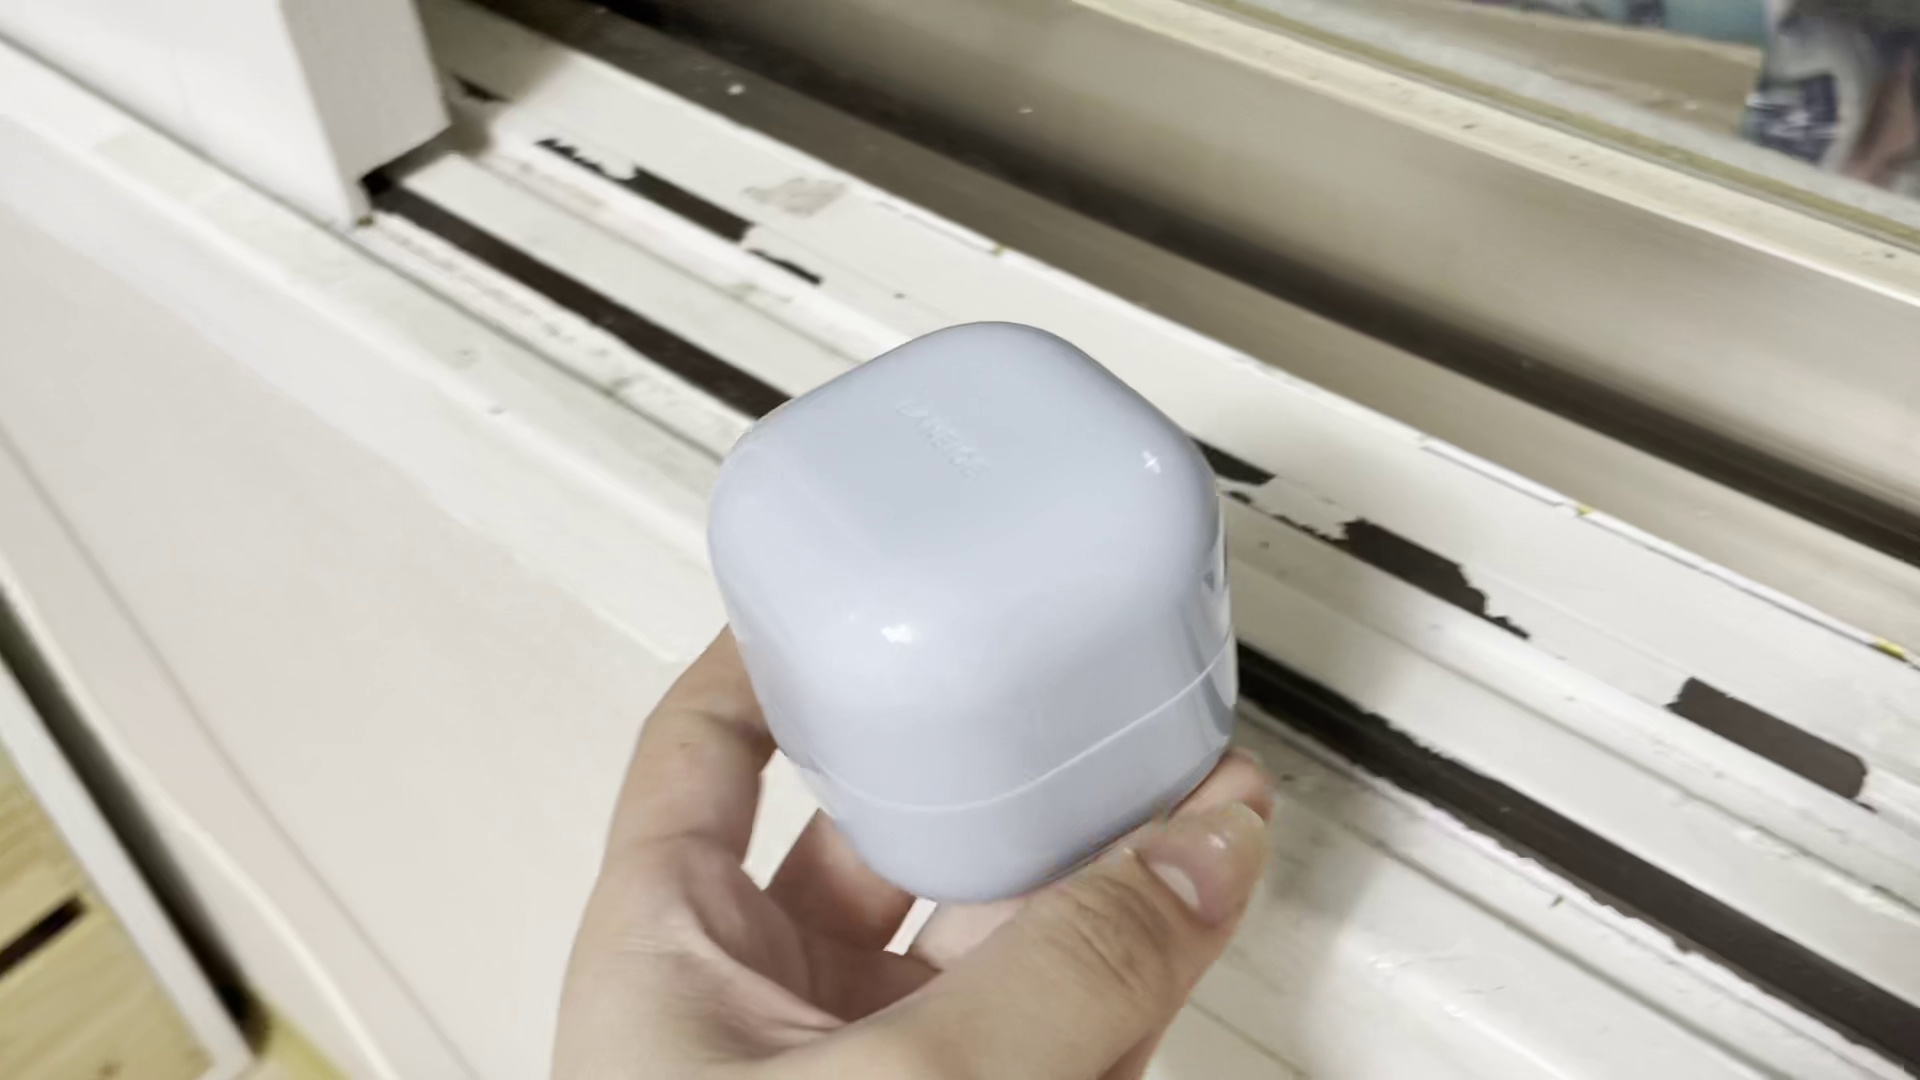cream: (712, 323, 1240, 903)
